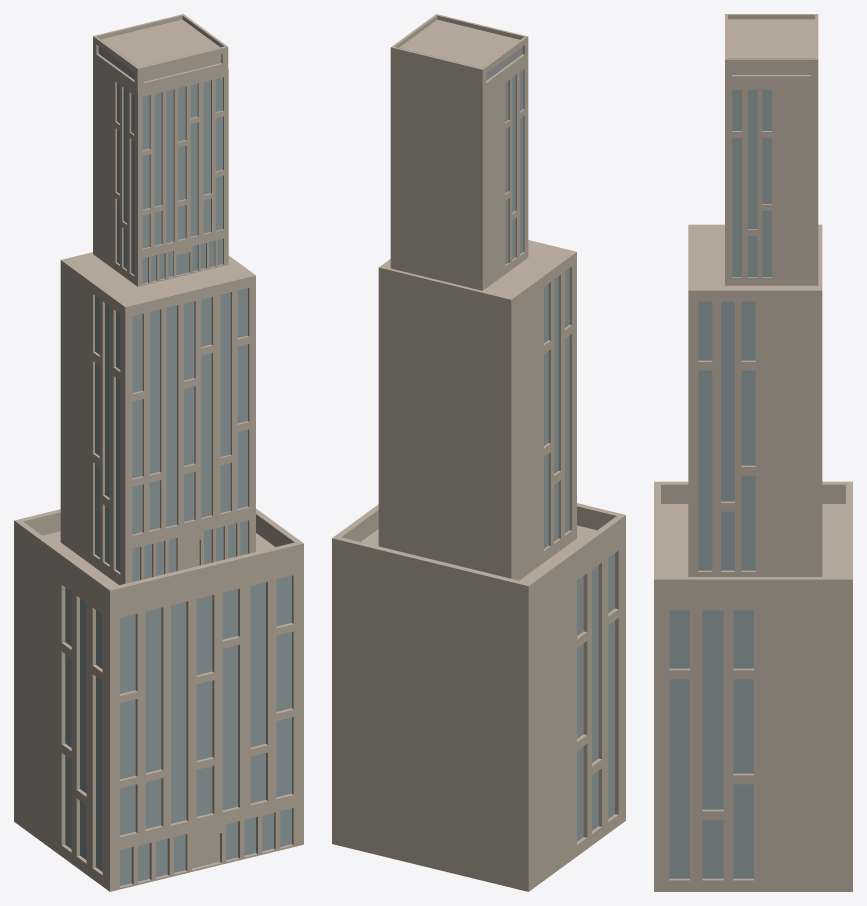
The model's file is building_2.fbx.
The picture shows the model from 3 angles, left to right: view 1: azimuth 30°, elevation 25°; view 2: azimuth 150°, elevation 25°; view 3: azimuth 270°, elevation 25°; orthographic projection. The views are drawn at different scales.
Parts seen in each view (by area): view 1: polySurface1979; view 2: polySurface1979; view 3: polySurface1979.
Boxes of the visible parts, x1,y1,x2,y2 form: polySurface1979: (14,14,303,891); polySurface1979: (332,14,625,891); polySurface1979: (654,14,852,891).
Size of the model in its own units: 55.13 by 47.25 by 213.
